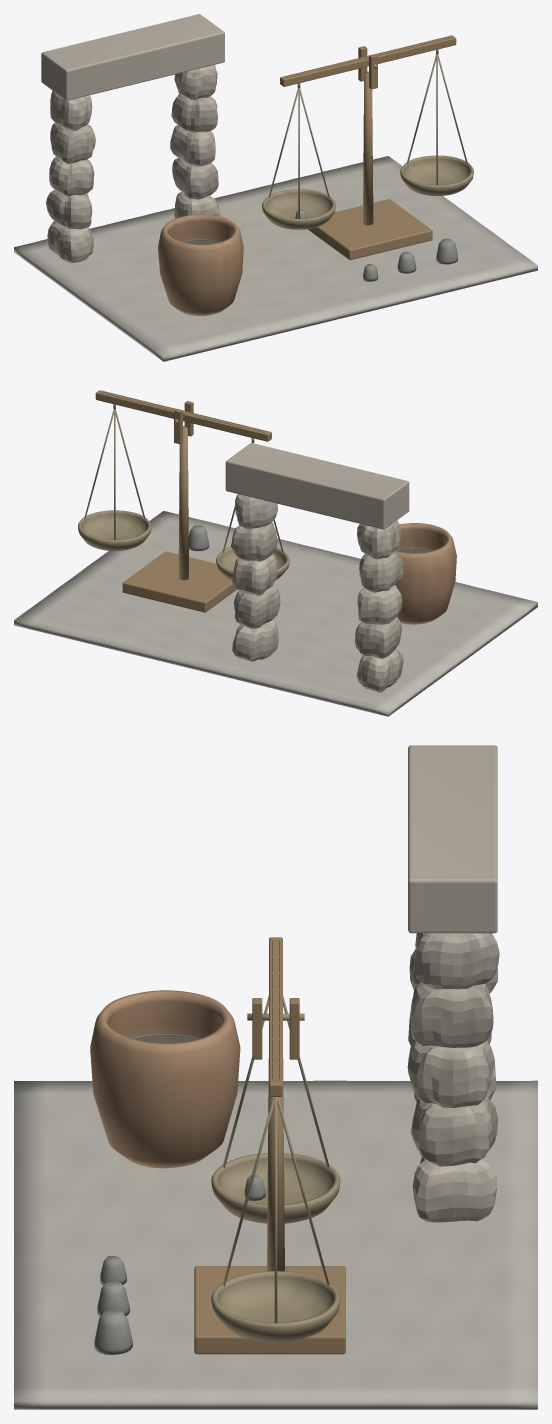
File: kingdom-measures.glb
3 views of the same model, one above another, from view 1: azimuth 30°, elevation 25°; view 2: azimuth 150°, elevation 25°; view 3: azimuth 270°, elevation 25° (orthographic). The views are drawn at different scales.
Visible parts, largest first — view 1: kingdom-measures-kingdom-modern-pale-fixture, kingdom-measures-kingdom-original-pale-gate-stone, kingdom-measures-kingdom-original-reading-wood, kingdom-measures-kingdom-ordinary-grain-container-clay, kingdom-measures-kingdom-original-gate-stone, kingdom-measures-kingdom-selected-plain-pan-metal.003, kingdom-measures-kingdom-selected-plain-pan-metal.001, kingdom-measures-kingdom-uninscribed-comparison-weight, kingdom-measures-kingdom-selected-balance-cord, kingdom-measures-kingdom-selected-balance-cord.001; view 2: kingdom-measures-kingdom-modern-pale-fixture, kingdom-measures-kingdom-original-pale-gate-stone, kingdom-measures-kingdom-original-reading-wood, kingdom-measures-kingdom-original-gate-stone, kingdom-measures-kingdom-ordinary-grain-container-clay, kingdom-measures-kingdom-selected-plain-pan-metal.003, kingdom-measures-kingdom-selected-plain-pan-metal.001, kingdom-measures-kingdom-selected-balance-cord.001, kingdom-measures-kingdom-uninscribed-comparison-weight; view 3: kingdom-measures-kingdom-modern-pale-fixture, kingdom-measures-kingdom-original-pale-gate-stone, kingdom-measures-kingdom-ordinary-grain-container-clay, kingdom-measures-kingdom-original-reading-wood, kingdom-measures-kingdom-original-gate-stone, kingdom-measures-kingdom-selected-plain-pan-metal.003, kingdom-measures-kingdom-selected-plain-pan-metal.001, kingdom-measures-kingdom-uninscribed-comparison-weight, kingdom-measures-kingdom-selected-balance-cord.001, kingdom-measures-kingdom-selected-balance-cord.
Part boxes in pixels (box(x1,y1,x2,y2)): kingdom-measures-kingdom-modern-pale-fixture: box(14, 156, 537, 361); kingdom-measures-kingdom-original-pale-gate-stone: box(41, 14, 224, 262); kingdom-measures-kingdom-original-reading-wood: box(280, 35, 456, 260); kingdom-measures-kingdom-ordinary-grain-container-clay: box(158, 214, 243, 315); kingdom-measures-kingdom-original-gate-stone: box(46, 93, 218, 229); kingdom-measures-kingdom-selected-plain-pan-metal.003: box(400, 155, 473, 195); kingdom-measures-kingdom-selected-plain-pan-metal.001: box(262, 189, 335, 229); kingdom-measures-kingdom-uninscribed-comparison-weight: box(295, 209, 457, 281); kingdom-measures-kingdom-selected-balance-cord: box(268, 88, 329, 218); kingdom-measures-kingdom-selected-balance-cord.001: box(406, 54, 467, 185); kingdom-measures-kingdom-modern-pale-fixture: box(14, 511, 537, 716); kingdom-measures-kingdom-original-pale-gate-stone: box(225, 443, 409, 692); kingdom-measures-kingdom-original-reading-wood: box(95, 390, 271, 612); kingdom-measures-kingdom-original-gate-stone: box(231, 522, 403, 658); kingdom-measures-kingdom-ordinary-grain-container-clay: box(395, 523, 456, 624); kingdom-measures-kingdom-selected-plain-pan-metal.003: box(78, 510, 151, 550); kingdom-measures-kingdom-selected-plain-pan-metal.001: box(216, 547, 289, 580); kingdom-measures-kingdom-selected-balance-cord.001: box(84, 409, 144, 540); kingdom-measures-kingdom-uninscribed-comparison-weight: box(188, 525, 231, 551); kingdom-measures-kingdom-modern-pale-fixture: box(14, 1080, 537, 1409); kingdom-measures-kingdom-original-pale-gate-stone: box(407, 745, 499, 1222); kingdom-measures-kingdom-ordinary-grain-container-clay: box(90, 990, 240, 1168); kingdom-measures-kingdom-original-reading-wood: box(194, 937, 345, 1354); kingdom-measures-kingdom-original-gate-stone: box(408, 982, 497, 1166); kingdom-measures-kingdom-selected-plain-pan-metal.003: box(211, 1271, 340, 1341); kingdom-measures-kingdom-selected-plain-pan-metal.001: box(211, 1153, 340, 1223); kingdom-measures-kingdom-uninscribed-comparison-weight: box(94, 1175, 265, 1354); kingdom-measures-kingdom-selected-balance-cord.001: box(222, 1097, 329, 1323); kingdom-measures-kingdom-selected-balance-cord: box(222, 995, 329, 1168).
Bounding box in the file's own units: 1.32 × 0.68 × 0.9.
